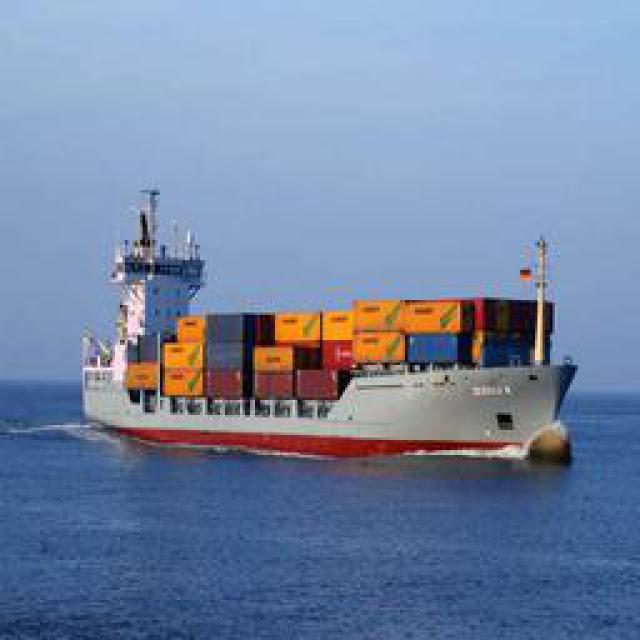Ship: (82, 195, 582, 463)
